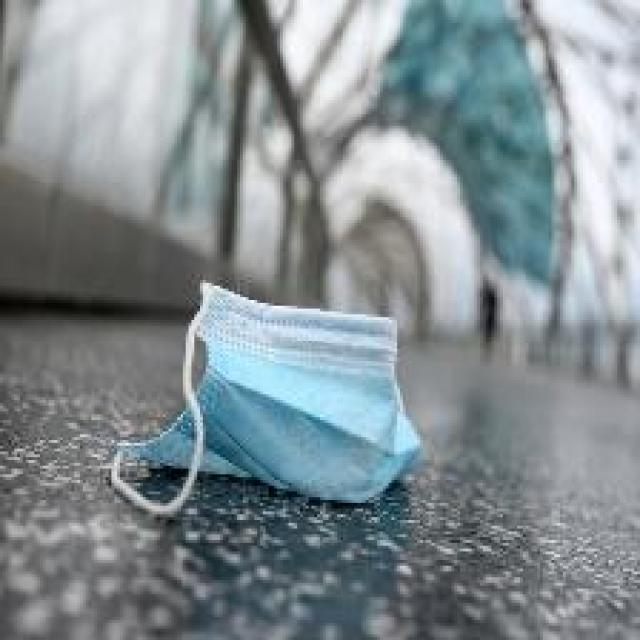Mask: (105, 268, 452, 526)
